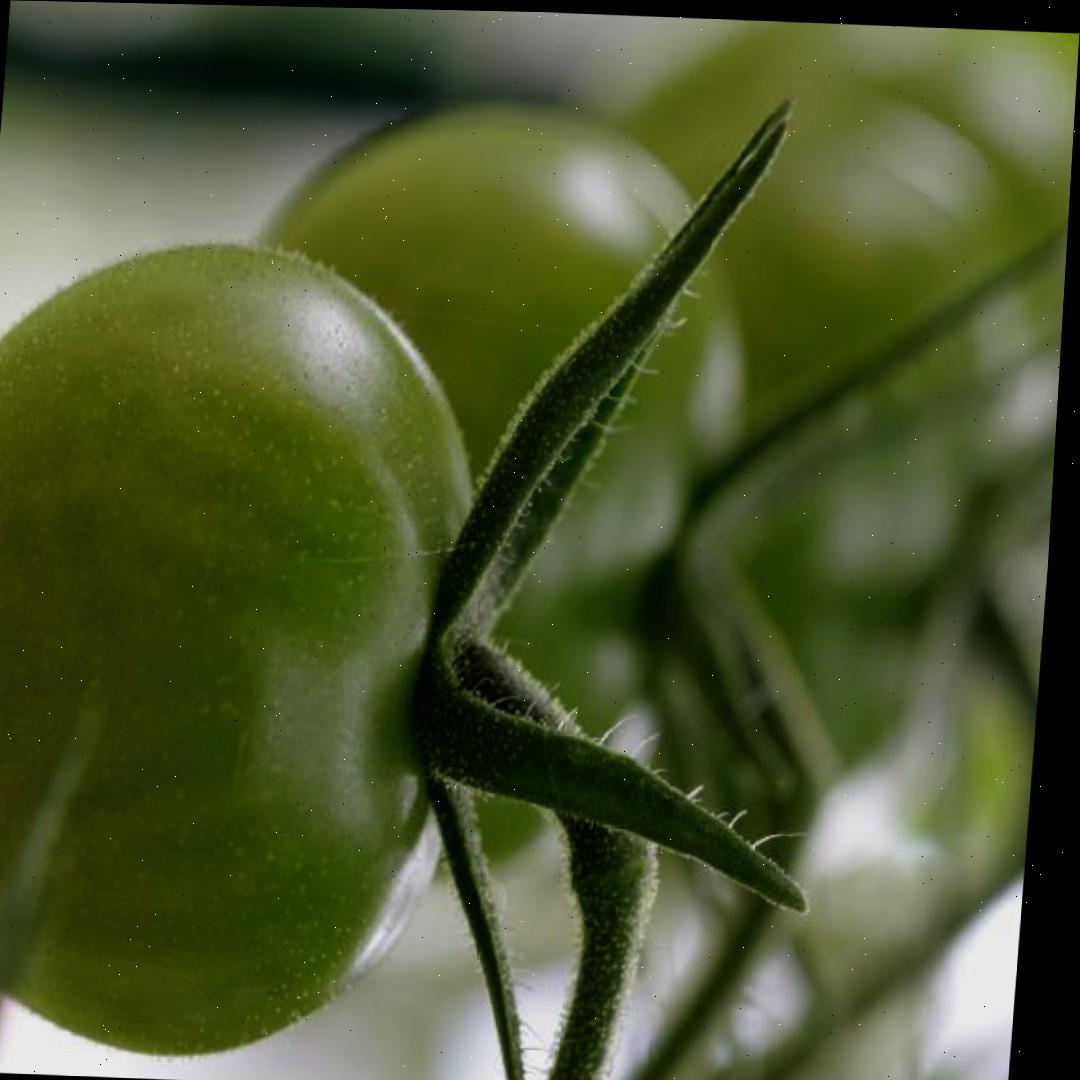mentah: (0, 233, 503, 1072)
